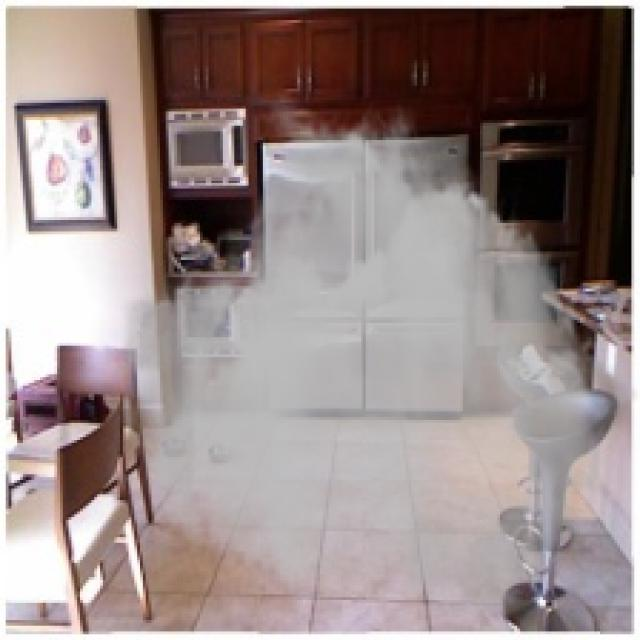smoke: (114, 91, 637, 628)
